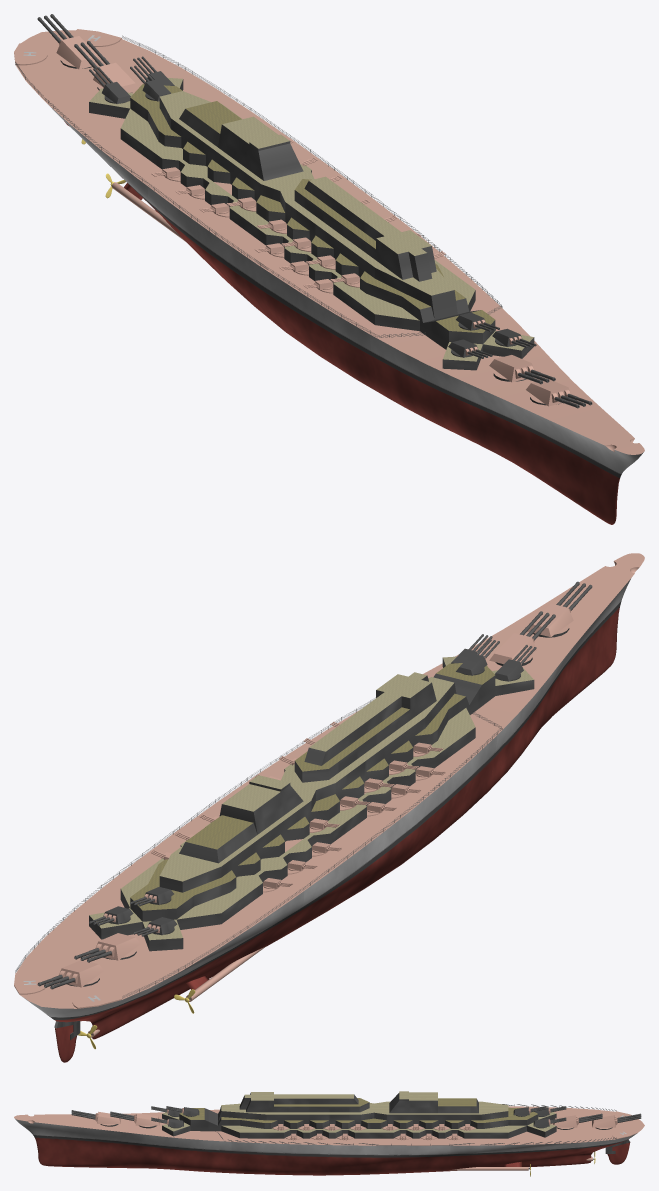
File: xunyangjian.glb
The picture shows the model from 3 angles, top to bottom: view 1: azimuth 30°, elevation 25°; view 2: azimuth 150°, elevation 25°; view 3: azimuth 270°, elevation 25°; orthographic projection. The views are drawn at different scales.
Visible parts, largest first — view 1: xunyangjian; view 2: xunyangjian; view 3: xunyangjian.
Part boxes in pixels (x1,y1,x2,y2): xunyangjian: [14, 14, 644, 524]; xunyangjian: [14, 553, 644, 1062]; xunyangjian: [14, 1091, 644, 1176].
Bounding box in the file's own units: 1788 × 1525 × 11756.
Materials: 7 (5 with a texture image).
